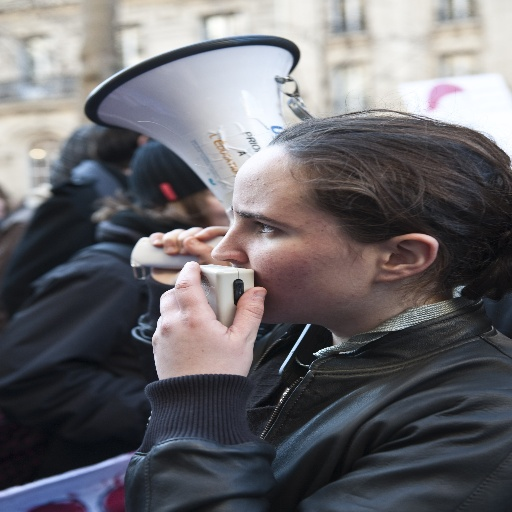hand: (130, 254, 298, 423), (147, 223, 229, 287)
